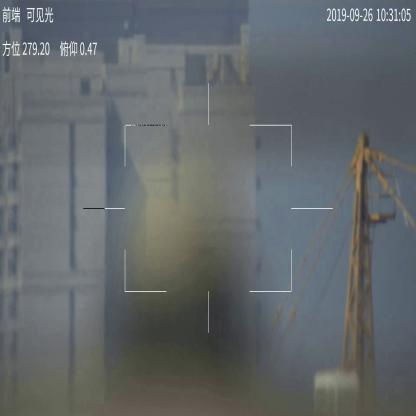uav: (162, 203, 185, 219)
